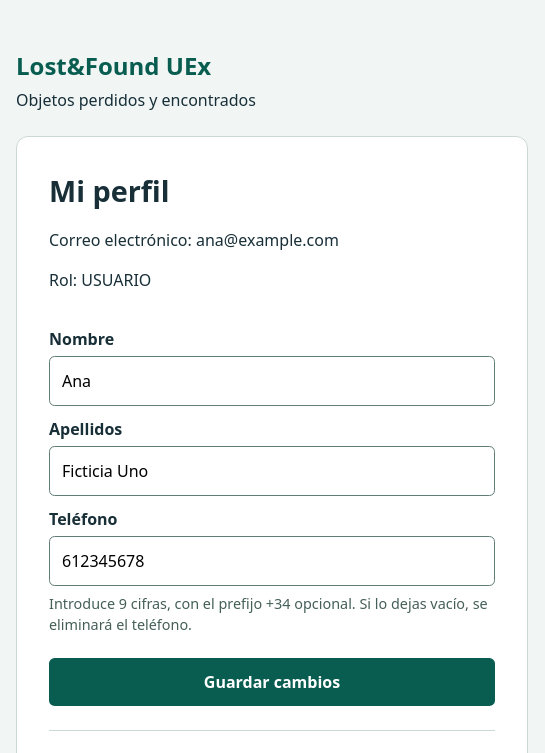
it: muestra el mensaje del servidor si los datos no son válidos
This screenshot has width=545, height=753.
Expected: the field labelled "Nombre" is shown, [49,356,495,406]
Click the button "Guardar cambios" at (272, 682), box [49,658,495,706]
(page scrolled)
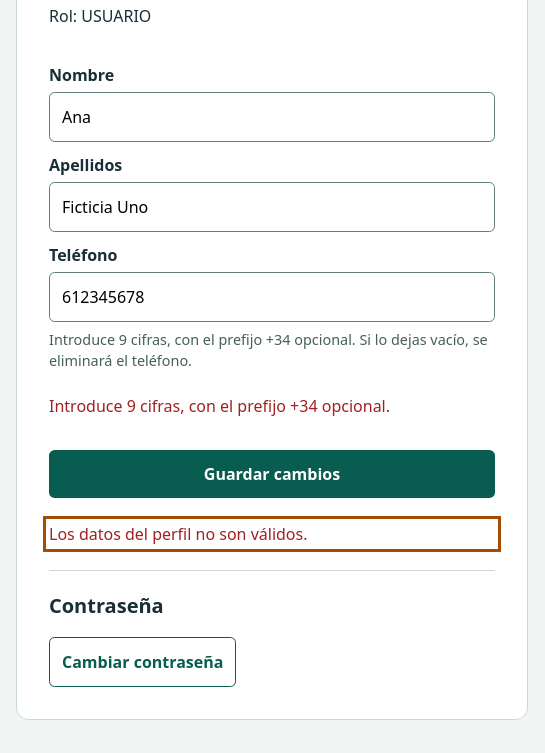
Expected: the text "Los datos del perfil no son válidos." is shown, [49,523,308,545]
